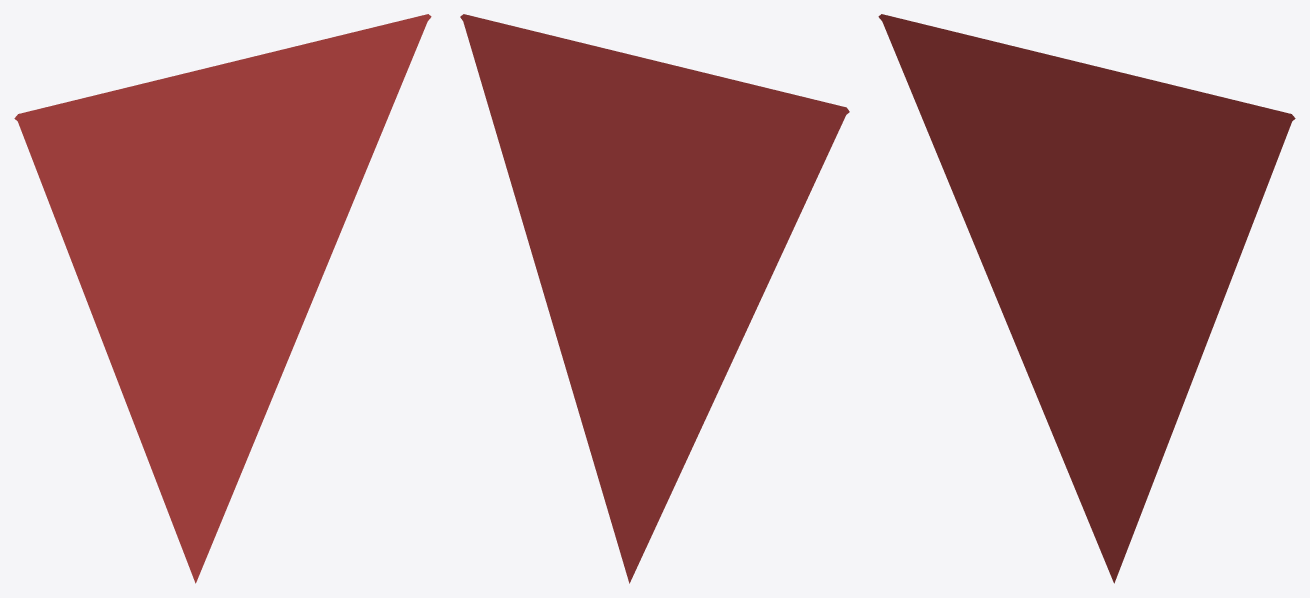
The model's file is 28_red.fbx.
The picture shows the model from 3 angles, left to right: view 1: azimuth 30°, elevation 25°; view 2: azimuth 150°, elevation 25°; view 3: azimuth 330°, elevation 25°; orthographic projection. The views are drawn at different scales.
Parts seen in each view (by area): view 1: 28_red; view 2: 28_red; view 3: 28_red.
Boxes of the visible parts, box(x1,y1,x2,y2) form: 28_red: box(14, 14, 431, 583); 28_red: box(460, 14, 849, 583); 28_red: box(878, 14, 1295, 583).
Size of the model in its own units: 70.49 by 87.15 by 8.05.
